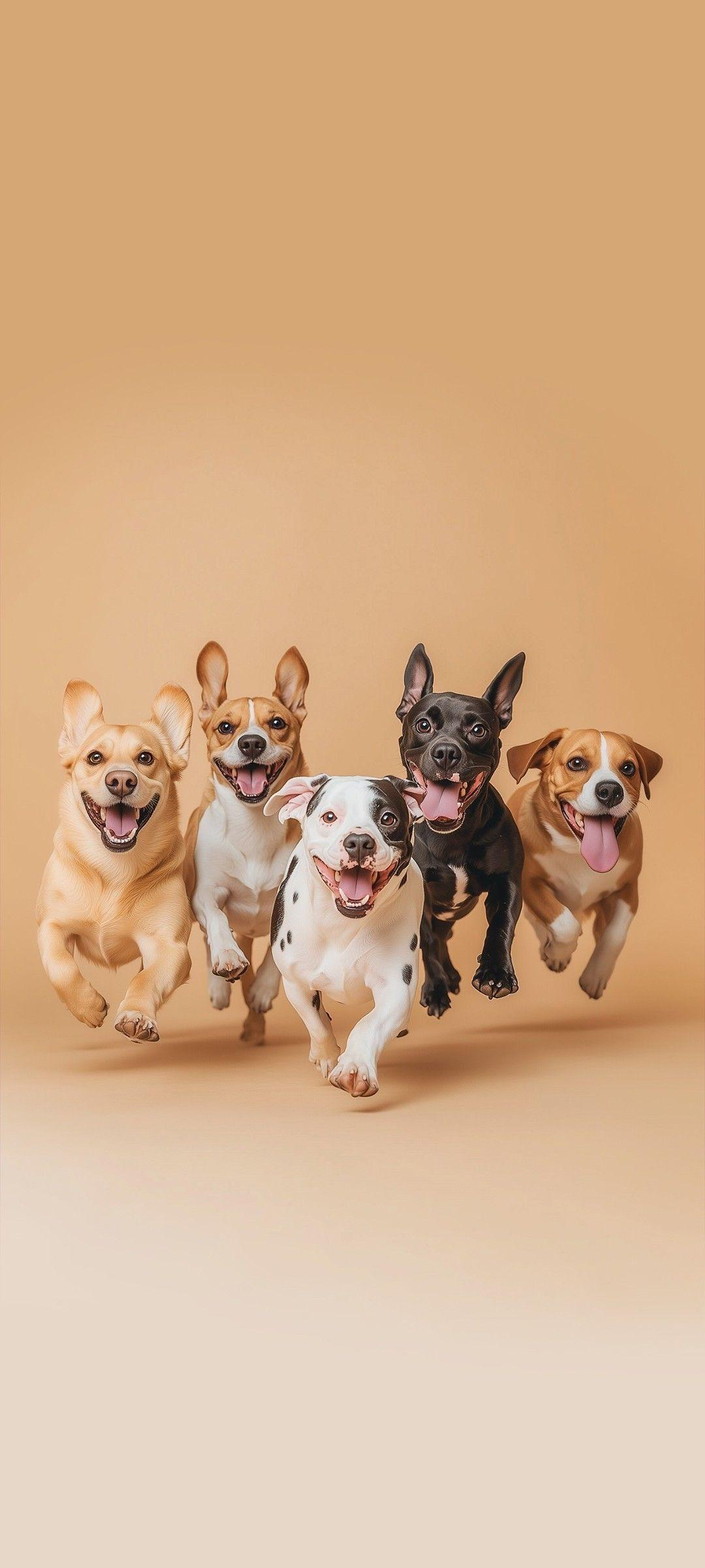adult_dog: (36, 677, 196, 1043), (263, 772, 428, 1099), (185, 640, 311, 1047), (396, 643, 527, 1019), (503, 727, 665, 1001)
